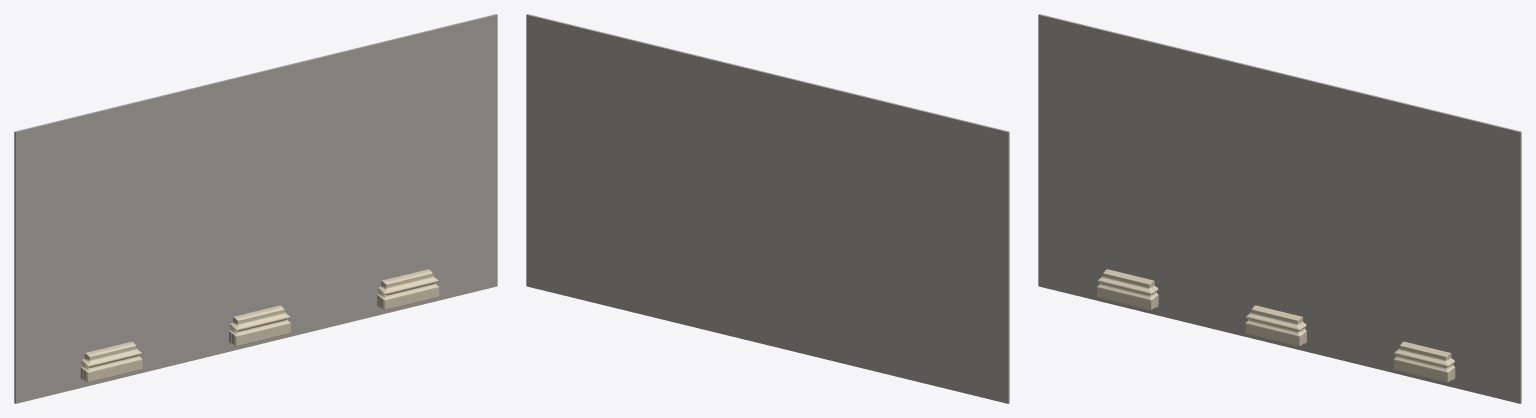
The model's file is terilgan.glb.
3 renders of one model, left to right at view 1: azimuth 30°, elevation 25°; view 2: azimuth 150°, elevation 25°; view 3: azimuth 330°, elevation 25°, orthographic.
Parts seen in each view (by area): view 1: Devor, t0, t2, t1; view 2: Devor; view 3: Devor, t2, t0, t1.
Boxes of the visible parts, <box> form: Devor: <box>14,14,497,403</box>; t0: <box>80,341,142,382</box>; t2: <box>377,269,439,310</box>; t1: <box>229,305,290,346</box>; Devor: <box>526,14,1009,403</box>; Devor: <box>1038,14,1521,403</box>; t2: <box>1393,341,1455,382</box>; t0: <box>1096,269,1158,310</box>; t1: <box>1245,305,1306,346</box>.
Size of the model in its own units: 2.6 by 1.4 by 0.077.
